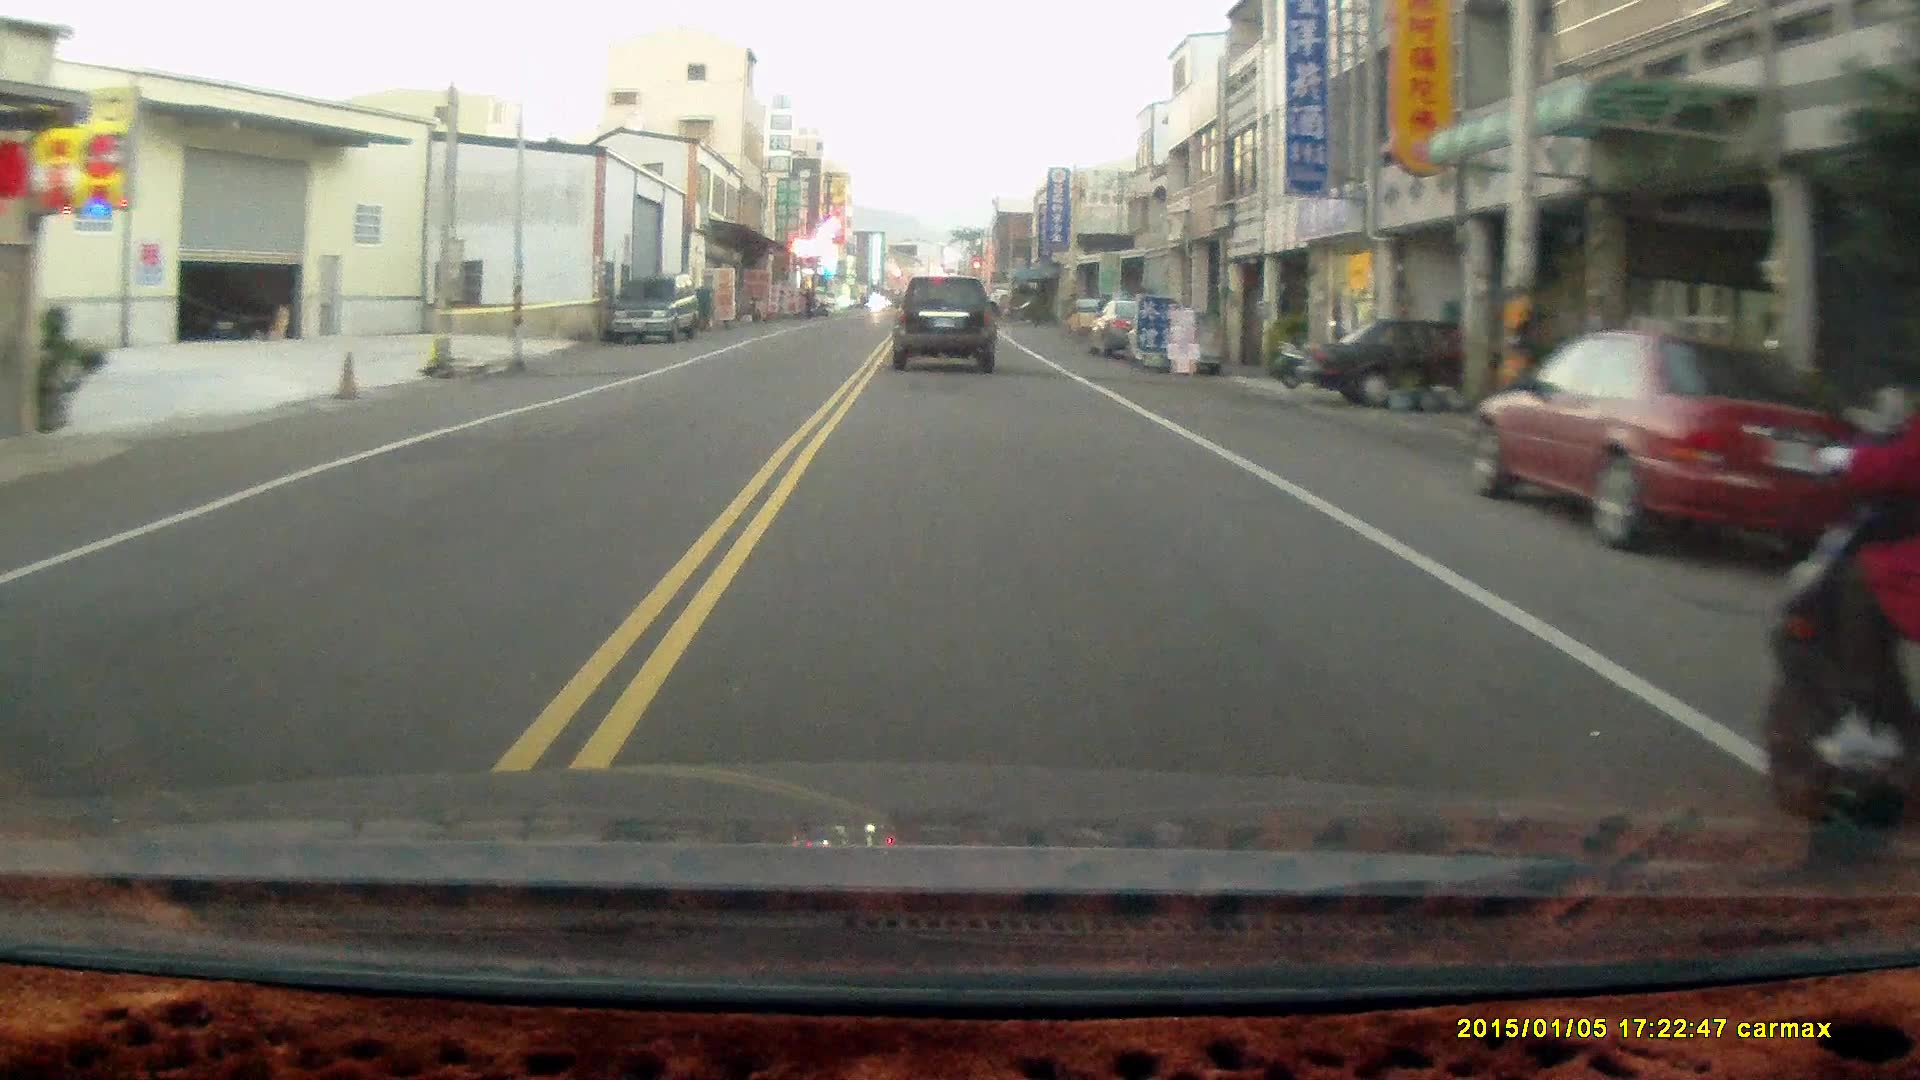rider: (1765, 364, 1913, 845)
vehicle: (1470, 328, 1891, 563), (1279, 310, 1554, 396), (890, 275, 1001, 377), (605, 275, 705, 351)
